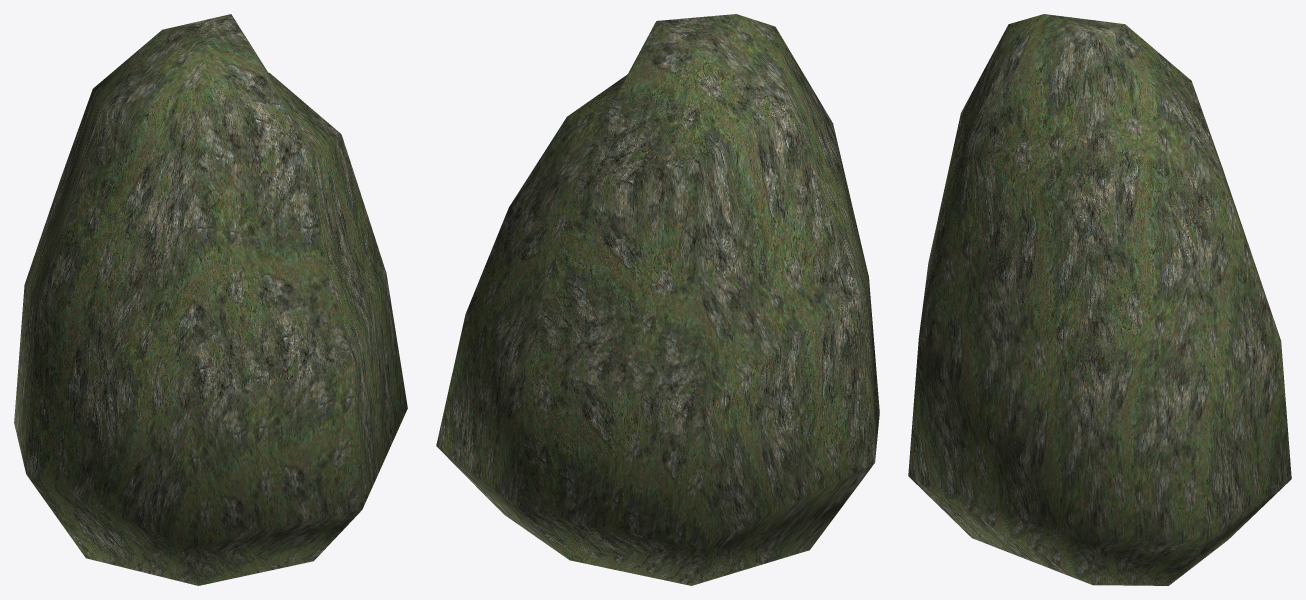
File: mtns_rock_moss_a1_l0.fbx
The picture shows the model from 3 angles, left to right: view 1: azimuth 30°, elevation 25°; view 2: azimuth 150°, elevation 25°; view 3: azimuth 270°, elevation 25°; orthographic projection. The views are drawn at different scales.
Parts seen in each view (by area): view 1: mesh_node; view 2: mesh_node; view 3: mesh_node.
Boxes of the visible parts, box(x1,y1,x2,y2) form: mesh_node: box(14, 14, 407, 585); mesh_node: box(436, 14, 879, 585); mesh_node: box(908, 14, 1291, 585).
Bounding box in the file's own units: 2.26 × 2.85 × 2.
